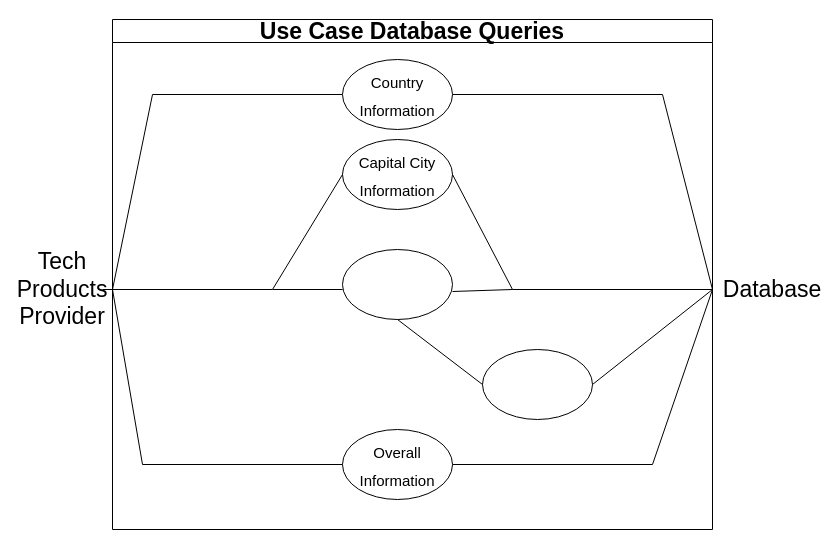
Some shapes in this 839 by 547 pixel diagram are drawn without their labels. The centre of each missing label's shape, as x and y in pixels:
"City Information" goes at pixel 397 284.
"Population Information" goes at pixel 537 384.
